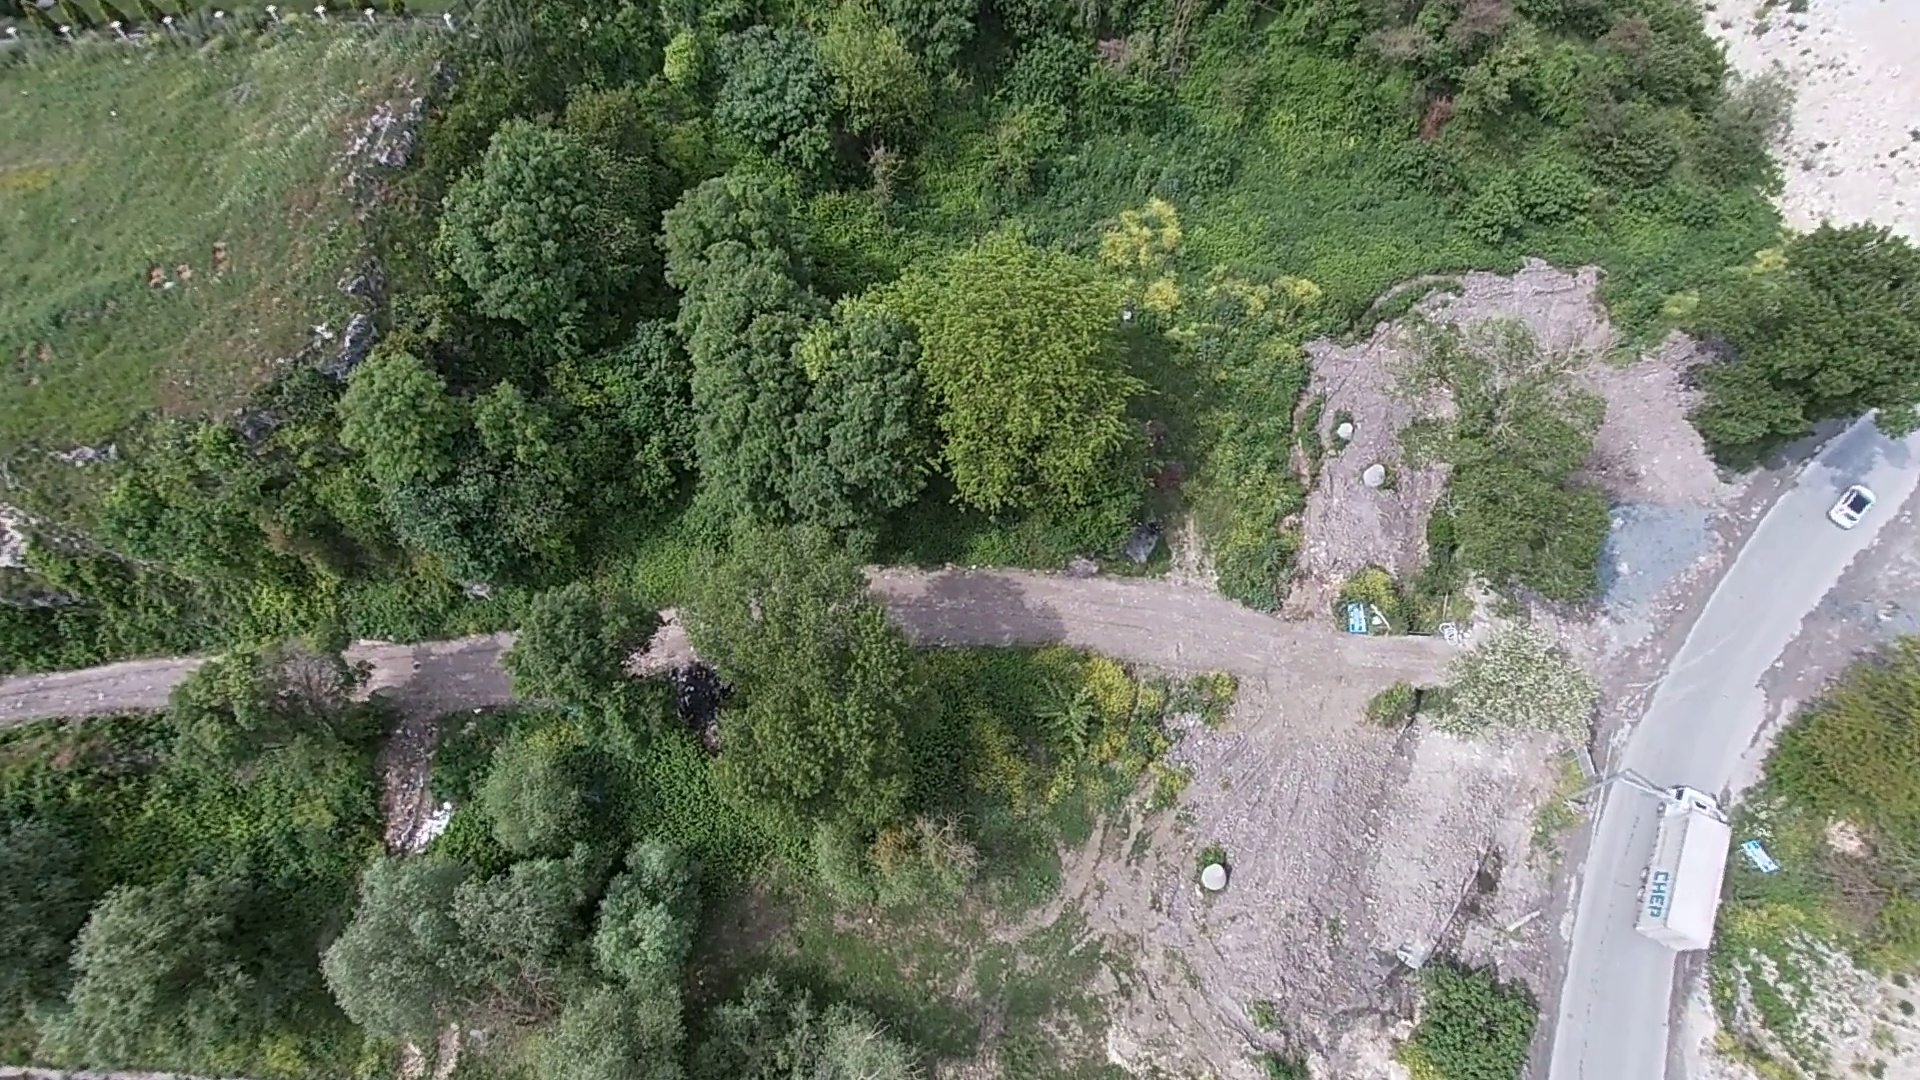araba: (1825, 475, 1875, 543)
kamyon: (1639, 769, 1727, 963)
